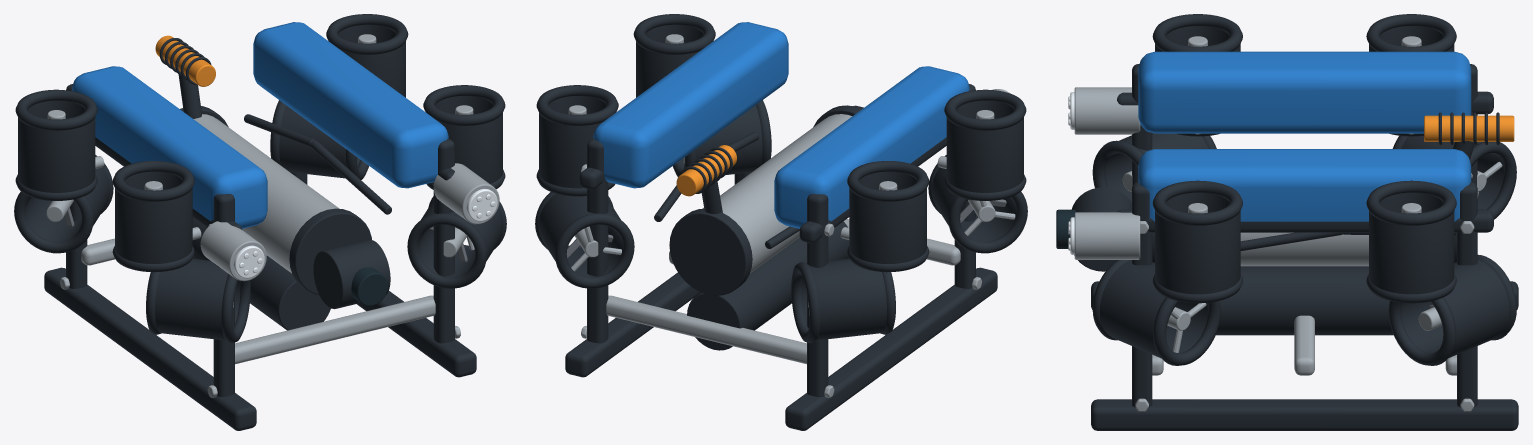
The model's file is bluerov2_heavy.glb.
3 views of the same model, side by side, from view 1: azimuth 30°, elevation 25°; view 2: azimuth 150°, elevation 25°; view 3: azimuth 270°, elevation 25° (orthographic). The views are drawn at different scales.
Parts seen in each view (by area): view 1: Buoyancy shoulder, Buoyancy shoulder.001, Skid rail.001, T8 open duct, T6 open duct, Electronics pressure housing, T2 open duct, Deck cross member.002, Battery housing, T5 open duct, Pressure end cap.001, Camera gimbal (+30 smaller); view 2: Buoyancy shoulder, Buoyancy shoulder.001, Skid rail.001, Battery housing, T6 open duct, T8 open duct, Pressure end cap, Electronics pressure housing, T4 open duct, Deck cross member, T7 open duct, Skid rail (+23 smaller); view 3: Buoyancy shoulder.001, Buoyancy shoulder, Skid rail, Battery housing, T7 open duct, T5 open duct, T3 open duct, T1 open duct, Electronics pressure housing, LED housing 0, LED housing 1, Frame upright (+25 smaller).
Boxes of the visible parts, box(x1,y1,x2,y2) form: Buoyancy shoulder: box(253, 22, 448, 188); Buoyancy shoulder.001: box(72, 66, 267, 228); Skid rail.001: box(44, 267, 256, 430); T8 open duct: box(18, 100, 95, 192); T6 open duct: box(115, 171, 192, 263); Electronics pressure housing: box(193, 114, 339, 273); T2 open duct: box(155, 258, 240, 340); Deck cross member.002: box(235, 295, 435, 364); Battery housing: box(192, 217, 330, 330); T5 open duct: box(435, 96, 502, 183); Pressure end cap.001: box(289, 208, 371, 295); Camera gimbal: box(313, 239, 390, 309); Buoyancy shoulder: box(593, 22, 788, 188); Buoyancy shoulder.001: box(774, 66, 969, 228); Skid rail.001: box(785, 267, 997, 430); Battery housing: box(687, 221, 849, 350); T6 open duct: box(946, 100, 1023, 192); T8 open duct: box(849, 171, 926, 263); Pressure end cap: box(669, 208, 752, 295); Electronics pressure housing: box(702, 114, 851, 273); T4 open duct: box(801, 258, 886, 340); Deck cross member: box(606, 295, 806, 364); T7 open duct: box(539, 96, 606, 188); Skid rail: box(565, 272, 700, 377); Buoyancy shoulder.001: box(1138, 51, 1471, 133); Buoyancy shoulder: box(1138, 149, 1471, 221); Skid rail: box(1091, 399, 1518, 430); Battery housing: box(1216, 266, 1393, 335); T7 open duct: box(1369, 192, 1454, 294); T5 open duct: box(1155, 192, 1240, 294); T3 open duct: box(1401, 259, 1509, 358); T1 open duct: box(1099, 260, 1207, 357); Electronics pressure housing: box(1240, 232, 1368, 266); LED housing 0: box(1074, 212, 1140, 259); LED housing 1: box(1074, 87, 1140, 134); Frame upright: box(1457, 182, 1477, 407).
Size of the model in its own units: 0.59 by 0.3468 by 0.562.
